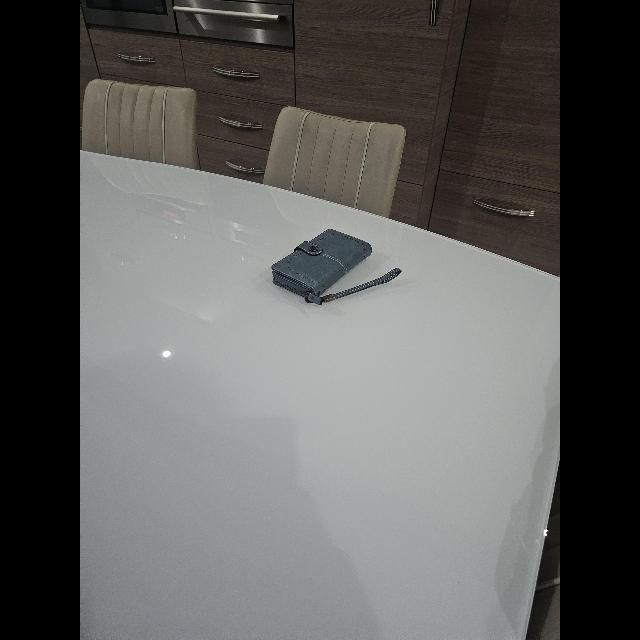Wallet: (270, 228, 376, 304)
